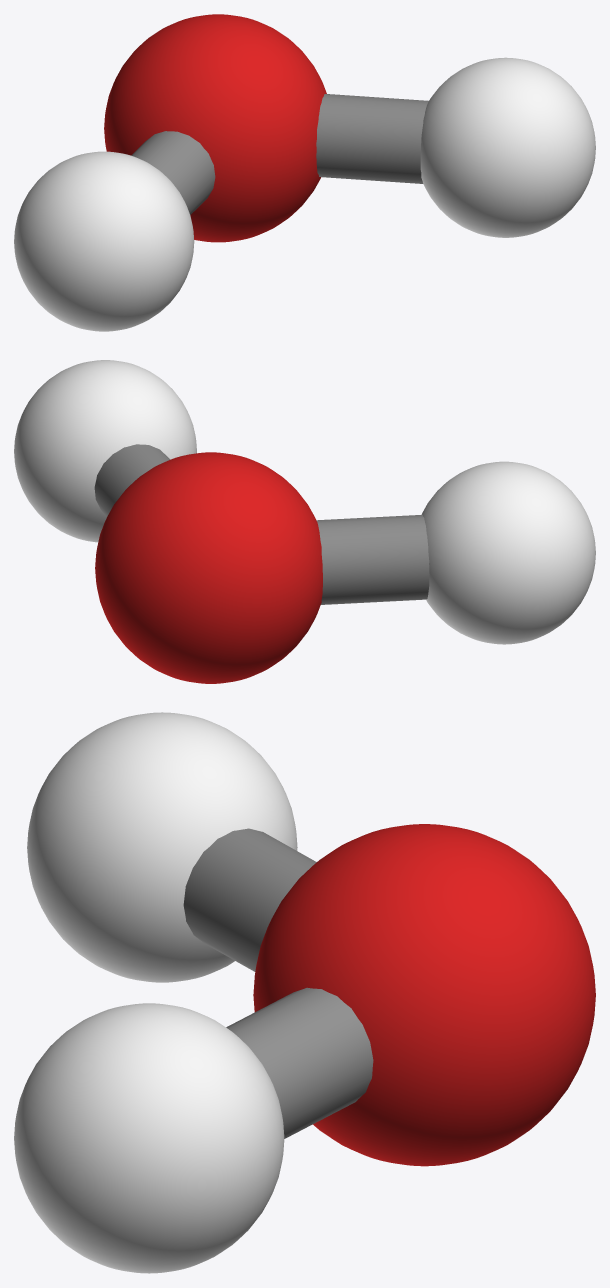
Rendered from wasser.glb.
The picture shows the model from 3 angles, top to bottom: view 1: azimuth 30°, elevation 25°; view 2: azimuth 150°, elevation 25°; view 3: azimuth 270°, elevation 25°; orthographic projection. The views are drawn at different scales.
Parts seen in each view (by area): view 1: O_0, H_1, H_2, B1, B0; view 2: O_0, H_1, H_2, B0, B1; view 3: O_0, H_2, H_1, B1, B0.
Part boxes in pixels (x1,y1,x2,y2): O_0: [104, 14, 326, 242]; H_1: [14, 151, 194, 331]; H_2: [420, 57, 595, 237]; B1: [316, 94, 428, 183]; B0: [131, 131, 215, 214]; O_0: [95, 452, 322, 683]; H_1: [421, 461, 595, 644]; H_2: [14, 360, 196, 542]; B0: [316, 514, 429, 604]; B1: [94, 444, 169, 516]; O_0: [253, 824, 595, 1166]; H_2: [14, 1003, 284, 1273]; H_1: [27, 712, 297, 982]; B1: [226, 987, 373, 1138]; B0: [183, 828, 316, 971].
Bounding box in the file's own units: 2.13 × 0.76 × 1.29.
